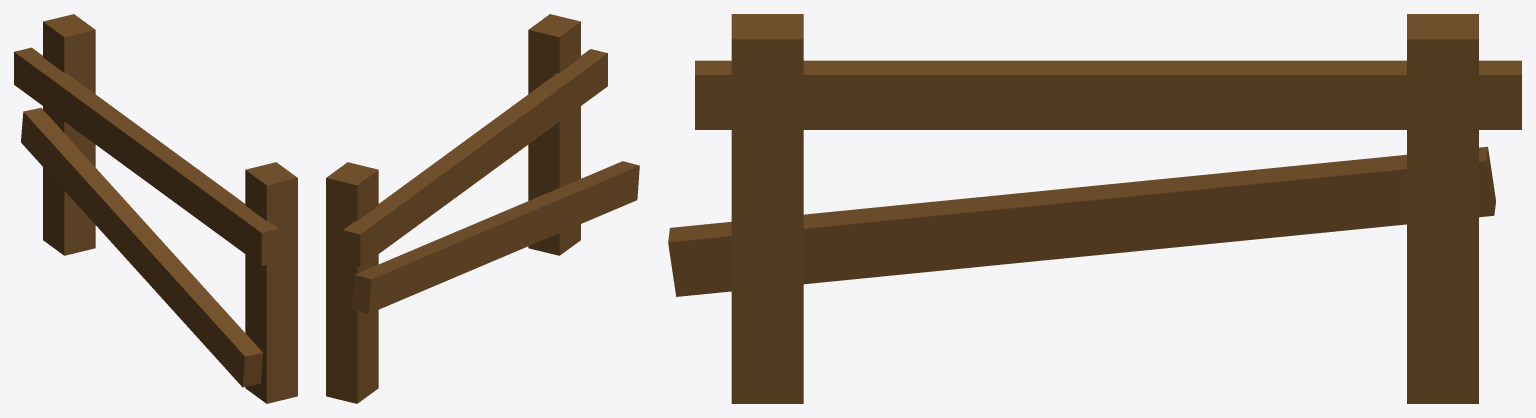
The model's file is Fence 2.fbx.
3 renders of one model, left to right at view 1: azimuth 30°, elevation 25°; view 2: azimuth 150°, elevation 25°; view 3: azimuth 270°, elevation 25°, orthographic. The views are drawn at different scales.
Visible parts, largest first — view 1: Fence_2; view 2: Fence_2; view 3: Fence_2.
Boxes of the visible parts, box(x1,y1,x2,y2) form: Fence_2: box(14, 14, 297, 403); Fence_2: box(326, 14, 639, 403); Fence_2: box(668, 14, 1521, 403).
Size of the model in its own units: 50 by 146 by 311.
Materials: 1 (1 with a texture image).
